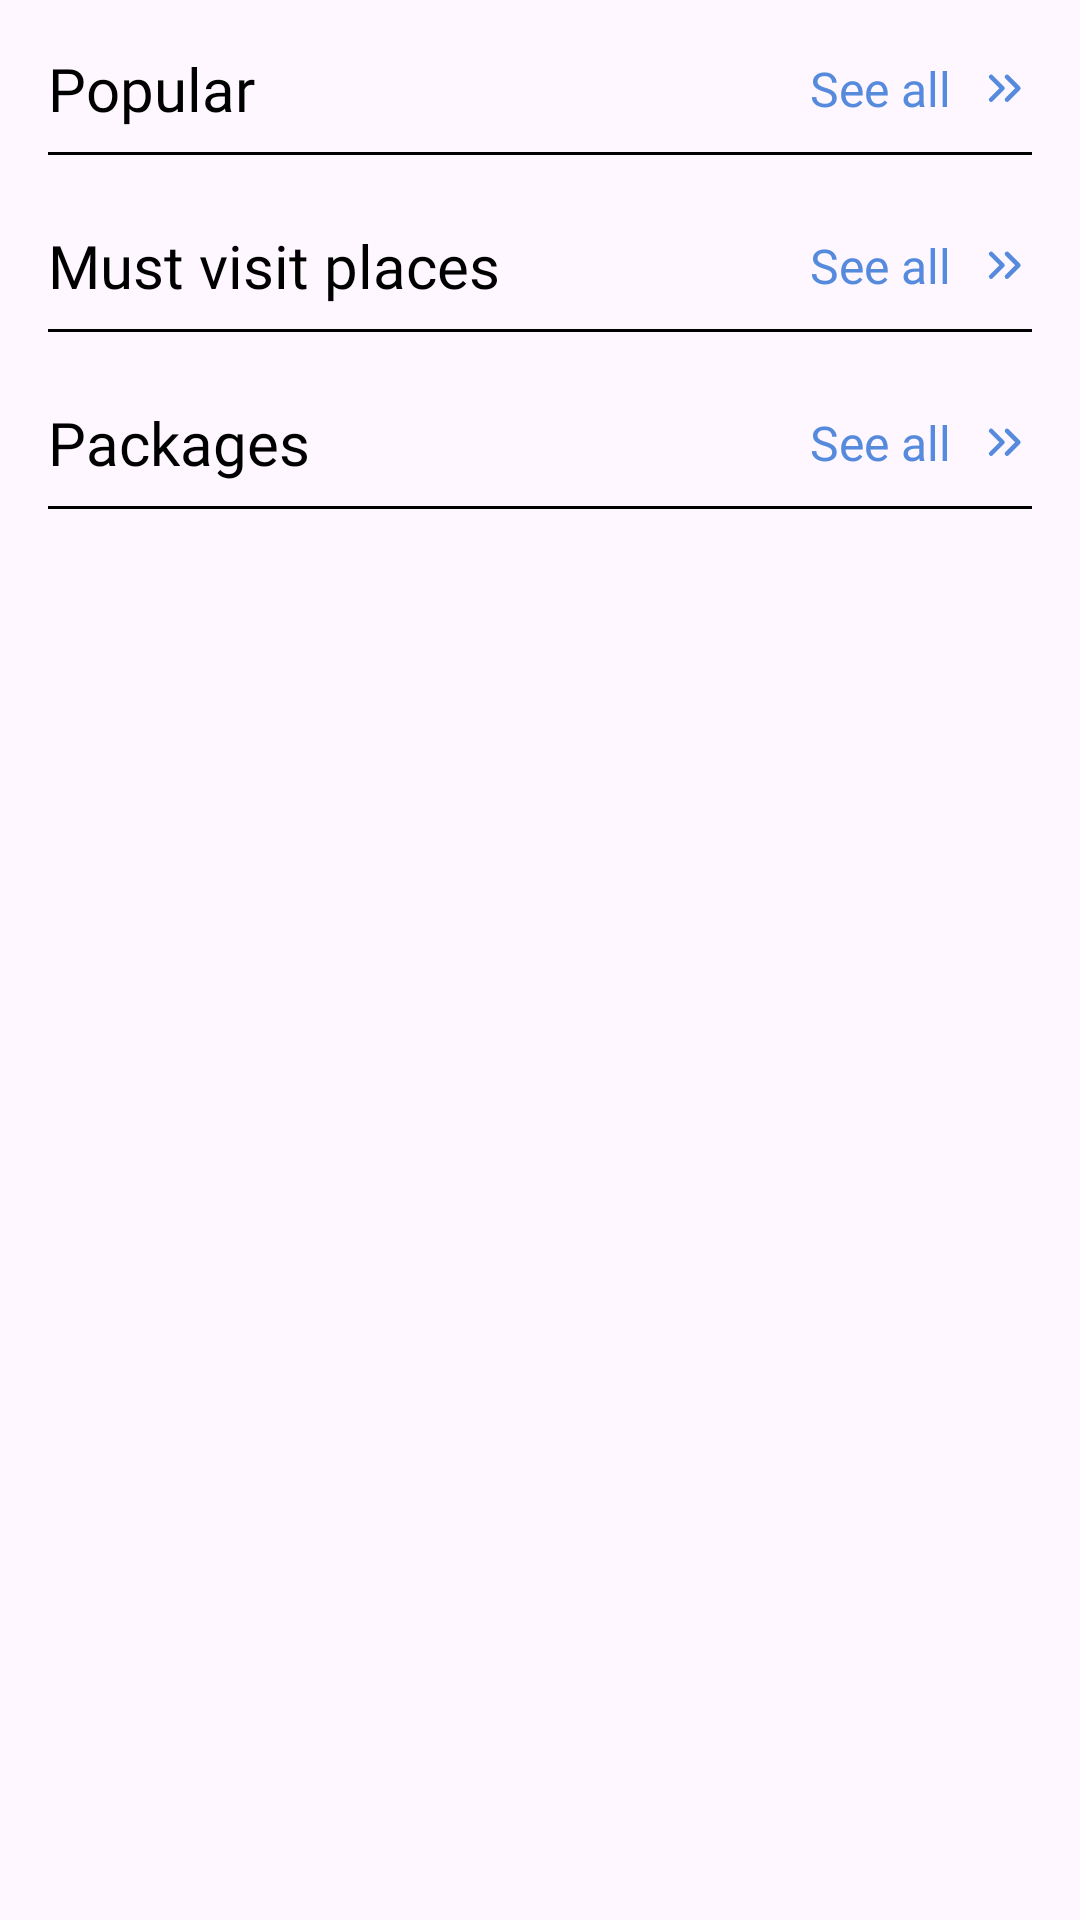

Icons on this 1080×1920 Android screen, each with the point to tap as (x=x, y=y):
chevrons right: (x=1004, y=88), (x=1004, y=265), (x=1004, y=442)
